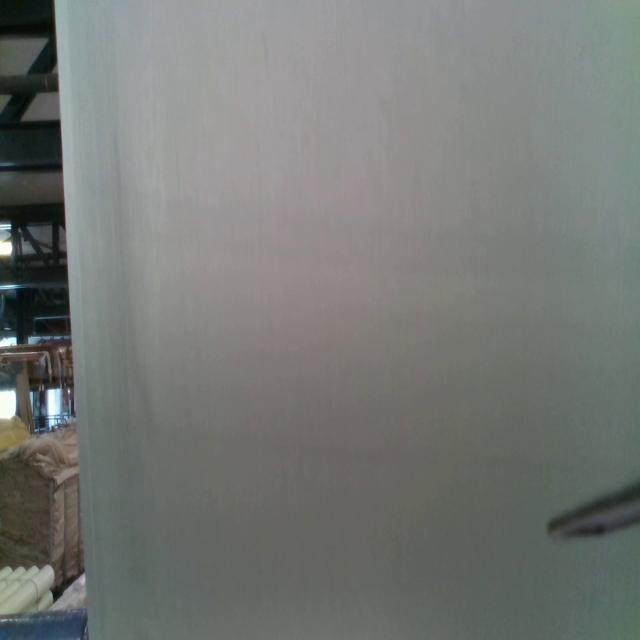color bleeding: (125, 411, 580, 484)
